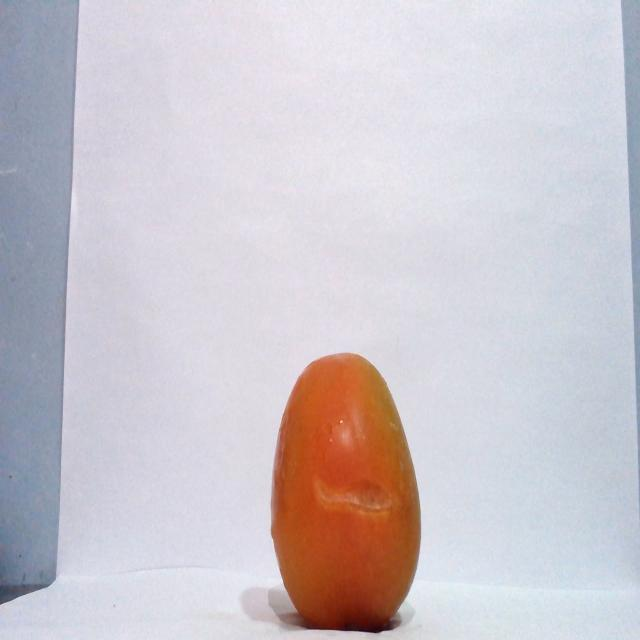Red: (268, 350, 422, 631)
